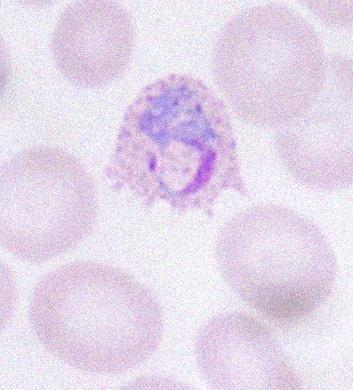Infected: (104, 73, 249, 219)
Uninfected: (23, 262, 165, 374), (216, 206, 333, 326), (216, 0, 324, 125), (274, 52, 353, 197), (0, 147, 96, 262), (200, 314, 302, 390), (56, 0, 131, 87)
